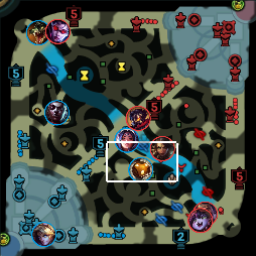bard: (127, 156, 153, 180)
draven: (193, 201, 217, 226)
ekko: (45, 99, 69, 125)
ezreal: (30, 221, 55, 246)
irelia: (115, 128, 137, 152)
lulu: (187, 208, 214, 232)
nidalee: (150, 136, 176, 162)
renekton: (27, 21, 50, 46)
vayne: (47, 19, 70, 44)
viktor: (124, 105, 151, 132)
